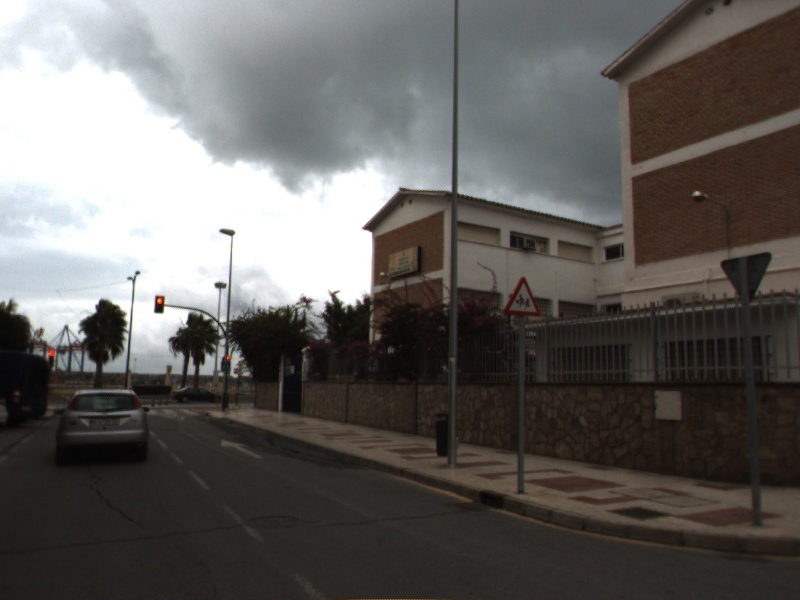STRAIGHT: (219, 437, 267, 462)
